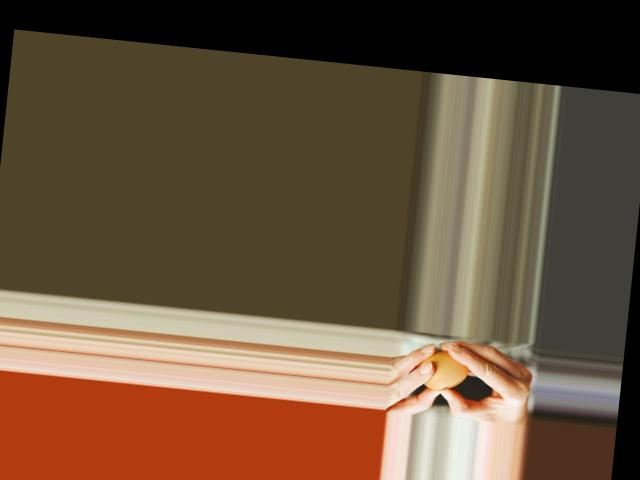egg: (417, 347, 470, 393)
